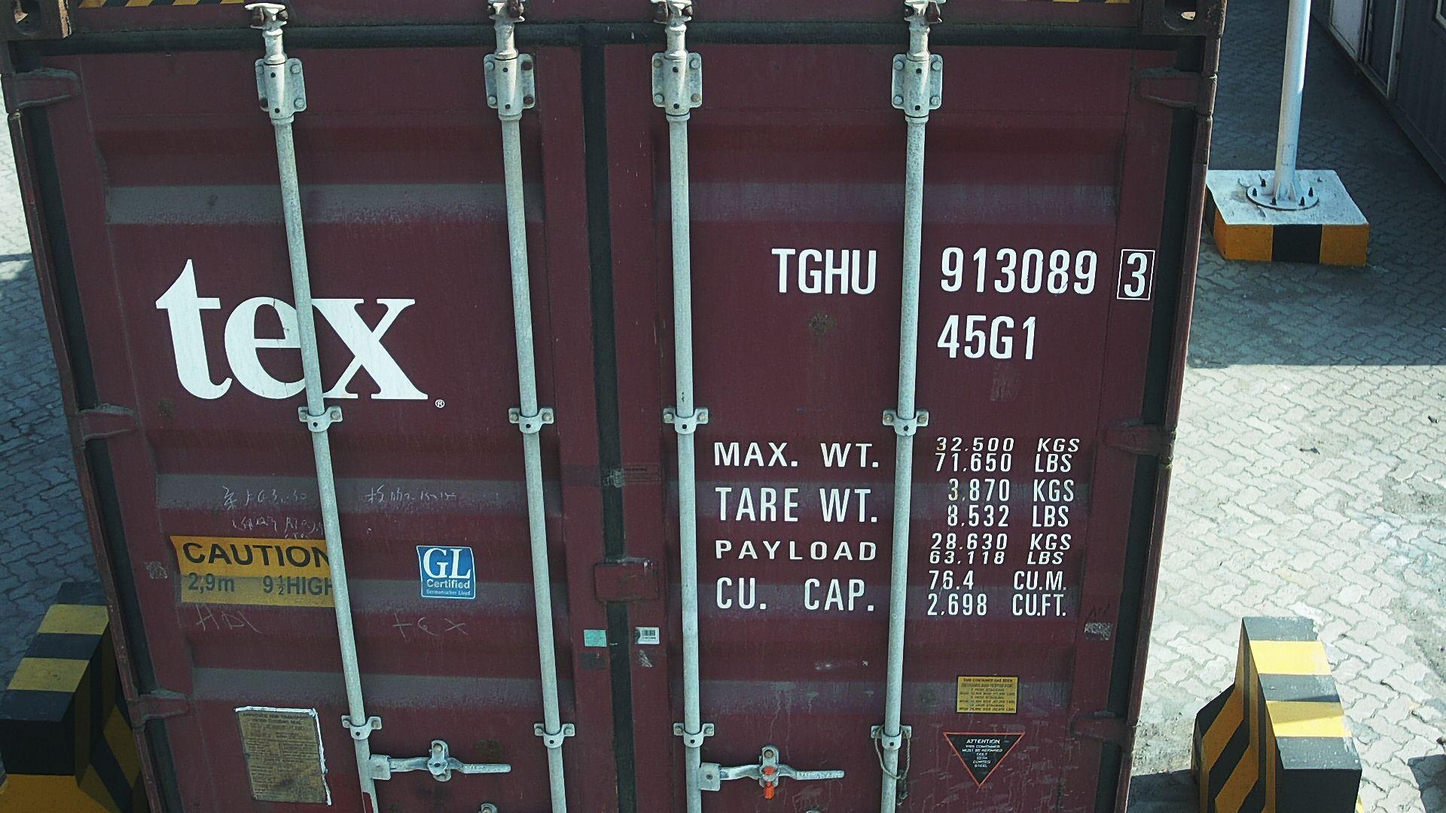container-numbers: (767, 242, 1161, 304), (933, 312, 1041, 364)
